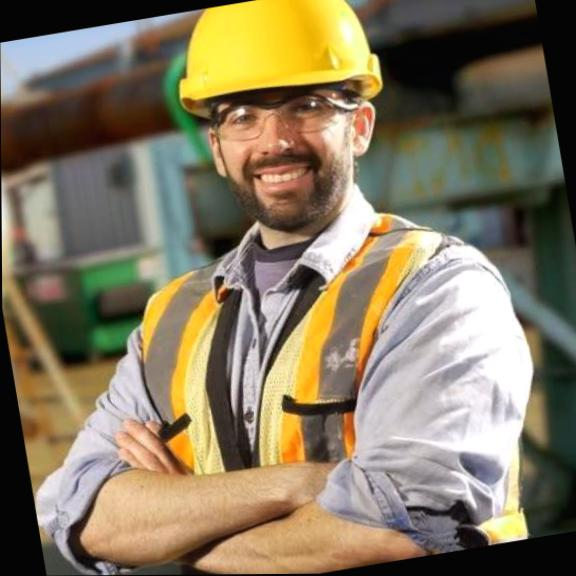safety_vest: (121, 213, 509, 575)
